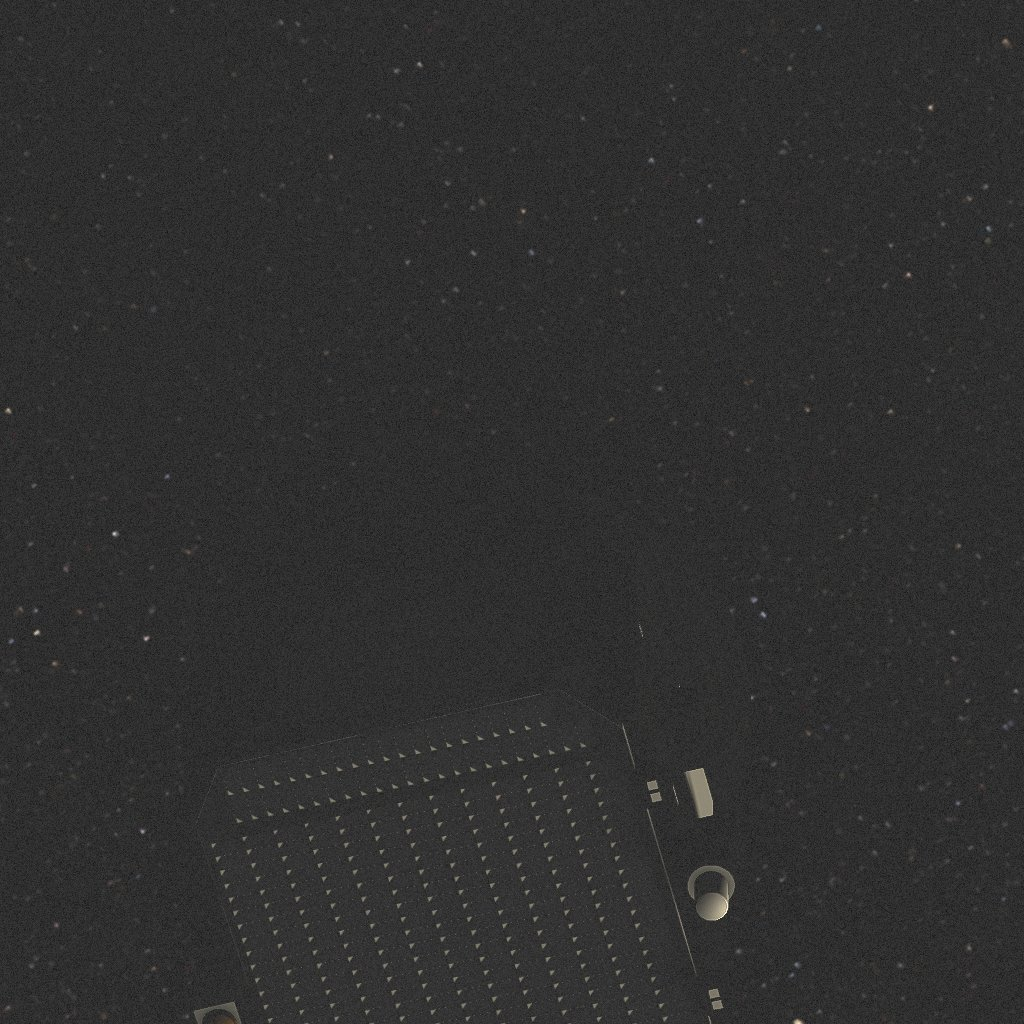proba_3_ocs: (181, 456, 751, 1024)
